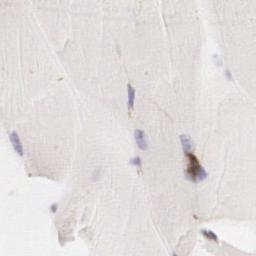nucleus: (135, 129, 150, 150), (9, 131, 22, 155), (179, 133, 194, 151), (127, 82, 136, 111), (127, 154, 143, 166), (224, 70, 234, 80), (198, 167, 206, 179), (211, 230, 216, 239), (181, 176, 192, 180), (202, 229, 206, 234)
positive_cell: (182, 153, 207, 181), (199, 227, 218, 242)
